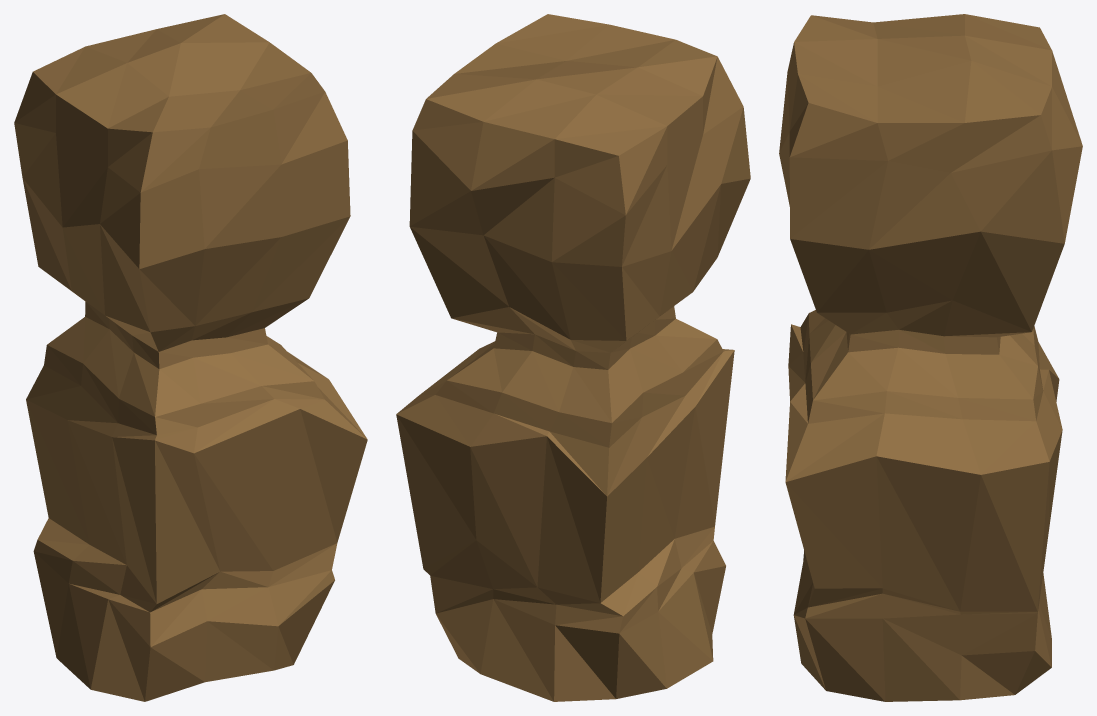
File: rock_03_vfns.FBX
The picture shows the model from 3 angles, left to right: view 1: azimuth 30°, elevation 25°; view 2: azimuth 150°, elevation 25°; view 3: azimuth 270°, elevation 25°; orthographic projection. The views are drawn at different scales.
Visible parts, largest first — view 1: Box002; view 2: Box002; view 3: Box002.
Part boxes in pixels (x1,y1,x2,y2): Box002: (14,14,367,701); Box002: (396,14,750,701); Box002: (779,14,1082,701).
Bounding box in the file's own units: 834 × 1910 × 850.
1 material, 1 textured.
